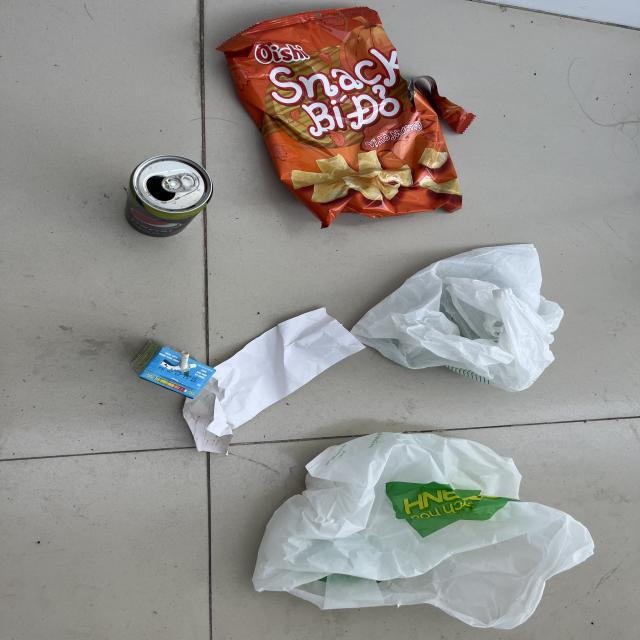bag: (252, 434, 596, 630), (348, 243, 566, 391)
can: (126, 156, 214, 237)
milk box: (129, 338, 217, 401)
paper: (182, 304, 367, 456)
snack package: (216, 7, 476, 230)
